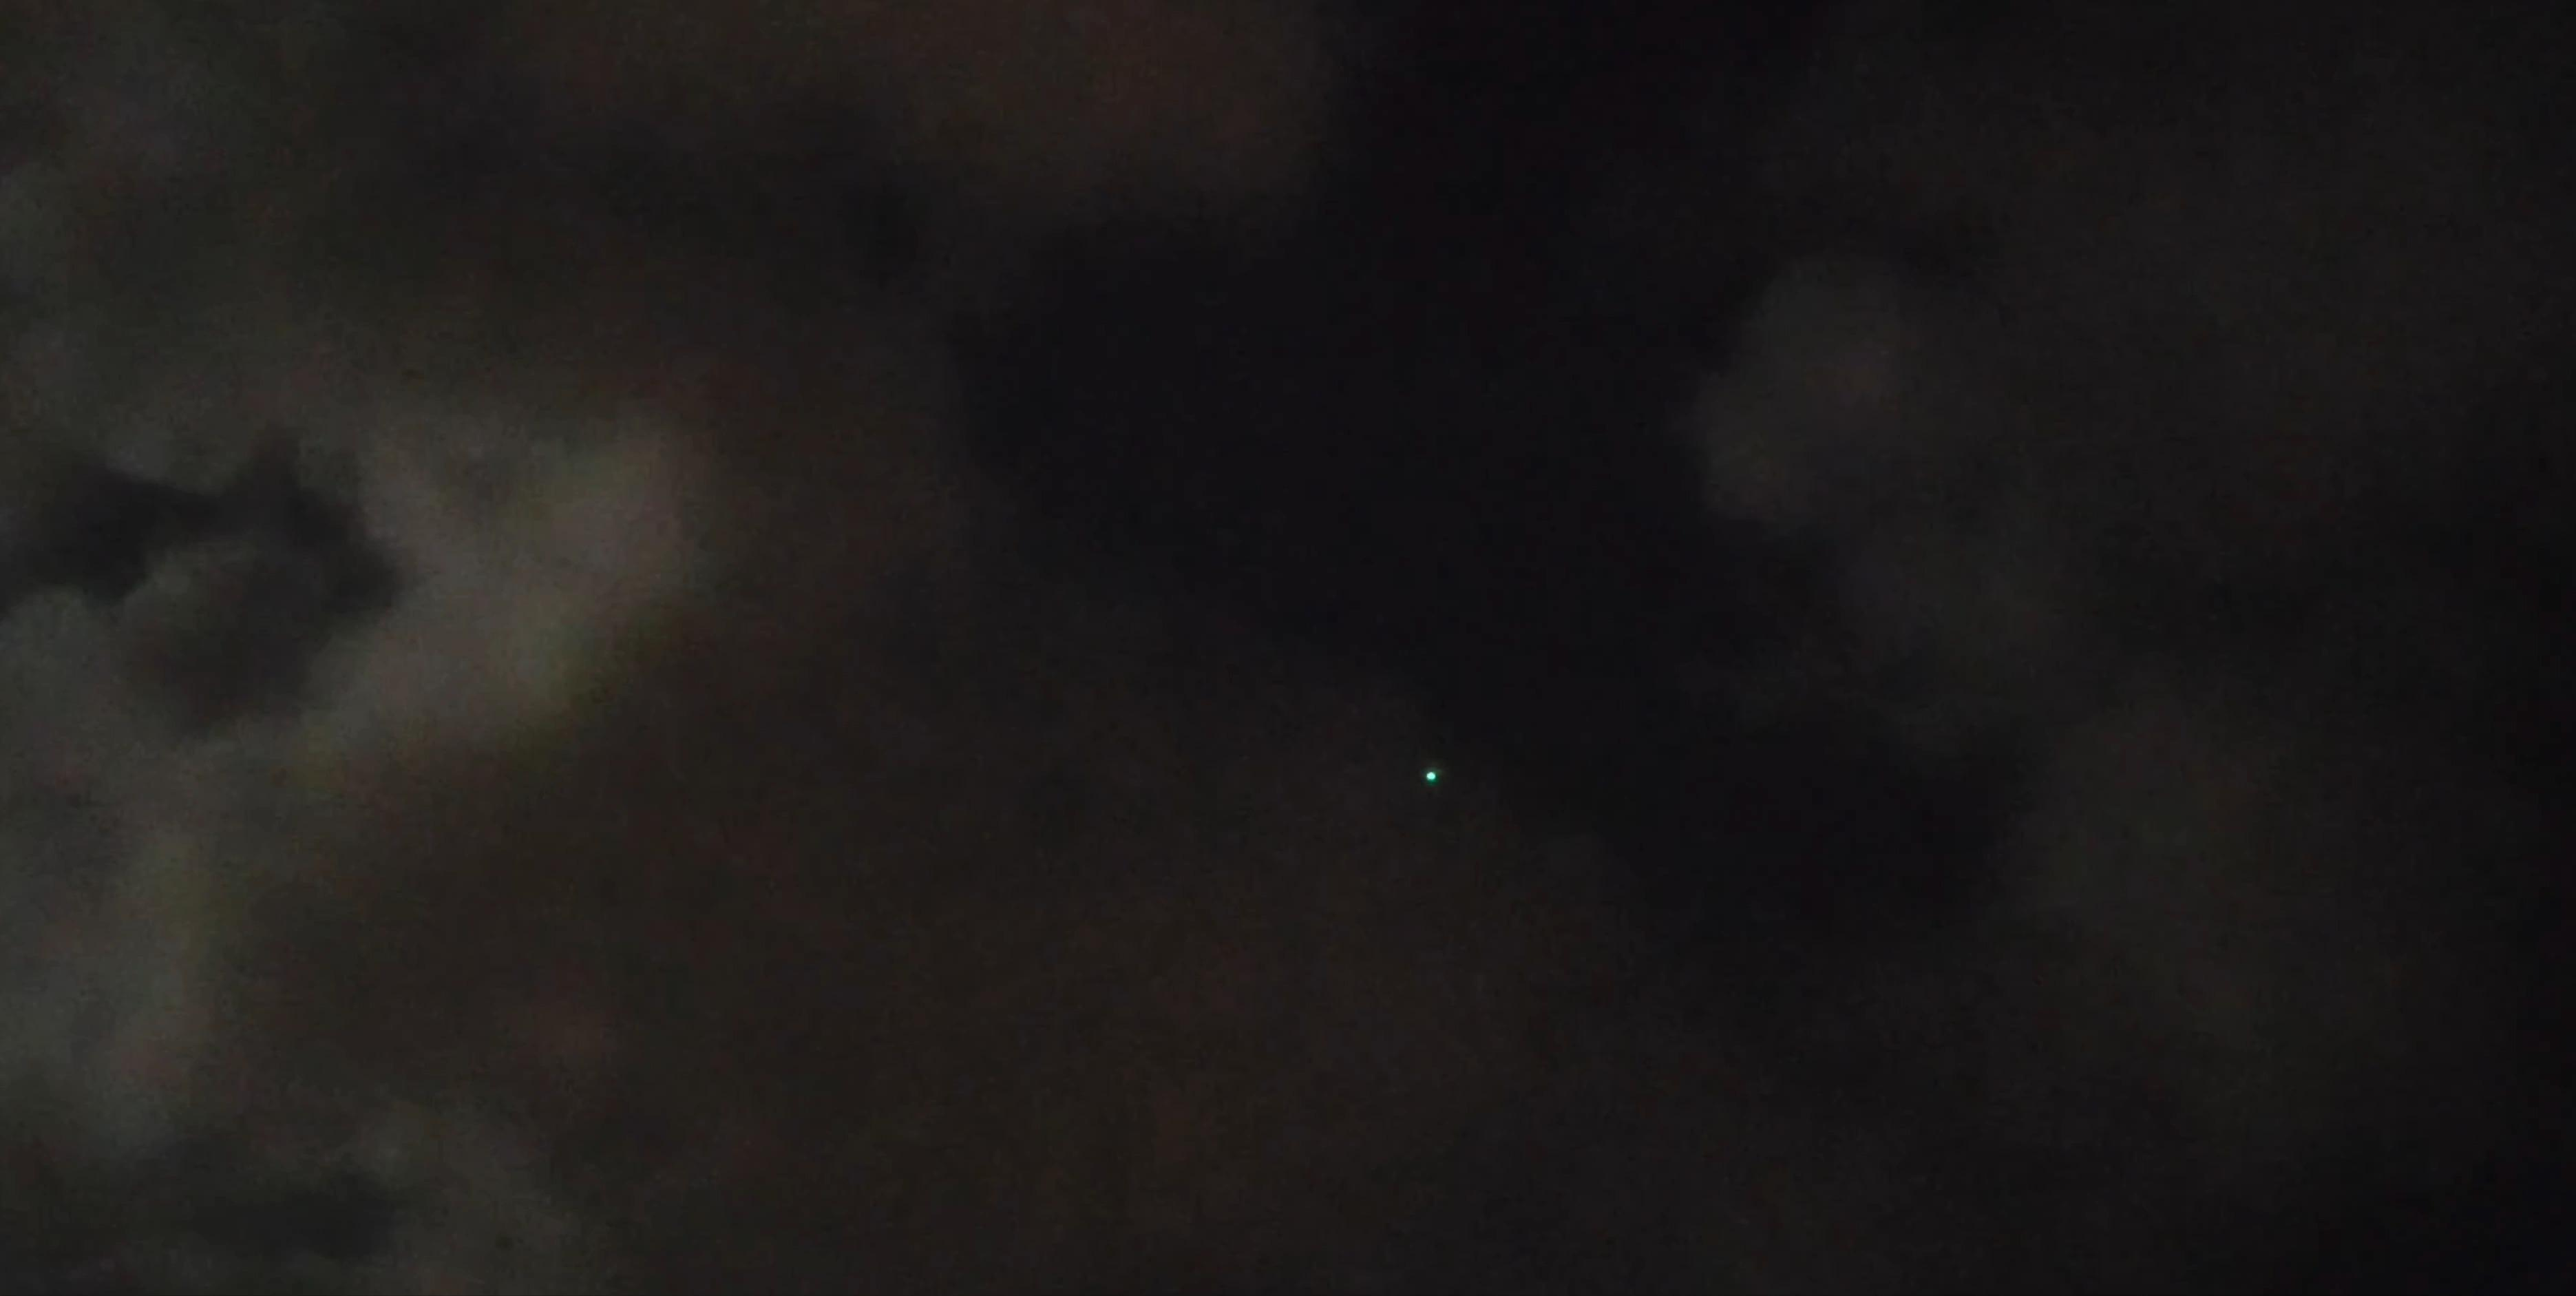Plane: (1401, 759, 1459, 807)
